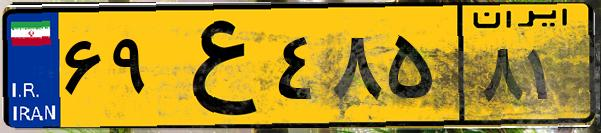1: (525, 38, 570, 115)
4: (270, 28, 330, 110)
5: (385, 28, 445, 110)
6: (57, 26, 110, 100)
8: (330, 28, 385, 110), (475, 38, 525, 113)
9: (110, 28, 158, 98)
ع: (158, 12, 270, 120)
